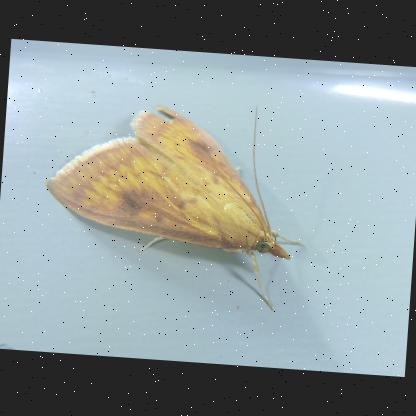Asian Corn Borer Moth: (36, 88, 317, 316)
